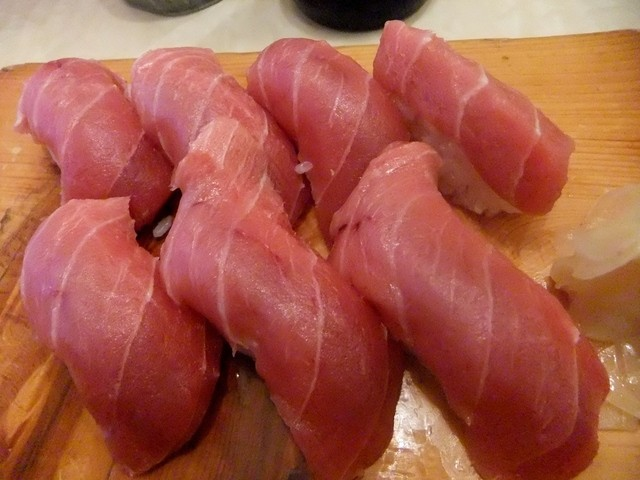medium_fatty_tuna: (333, 165, 609, 474), (159, 183, 410, 476), (13, 198, 225, 471), (385, 25, 580, 210), (134, 46, 308, 223), (245, 35, 412, 200), (15, 58, 171, 218)
